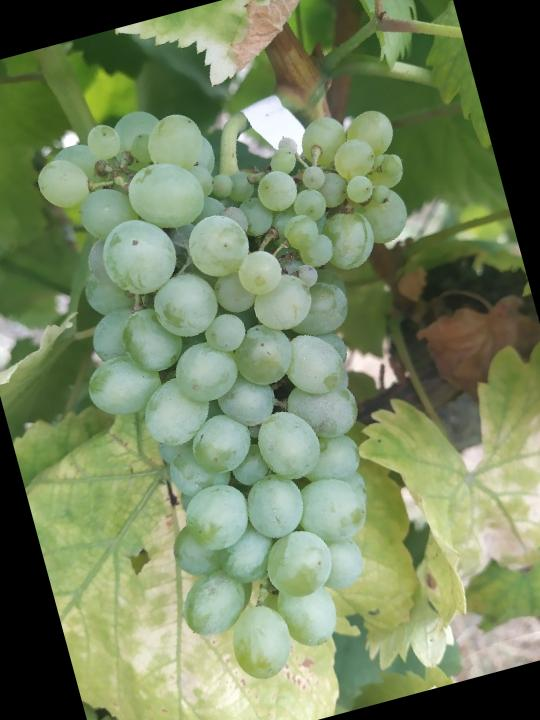grape: (17, 43, 526, 709)
